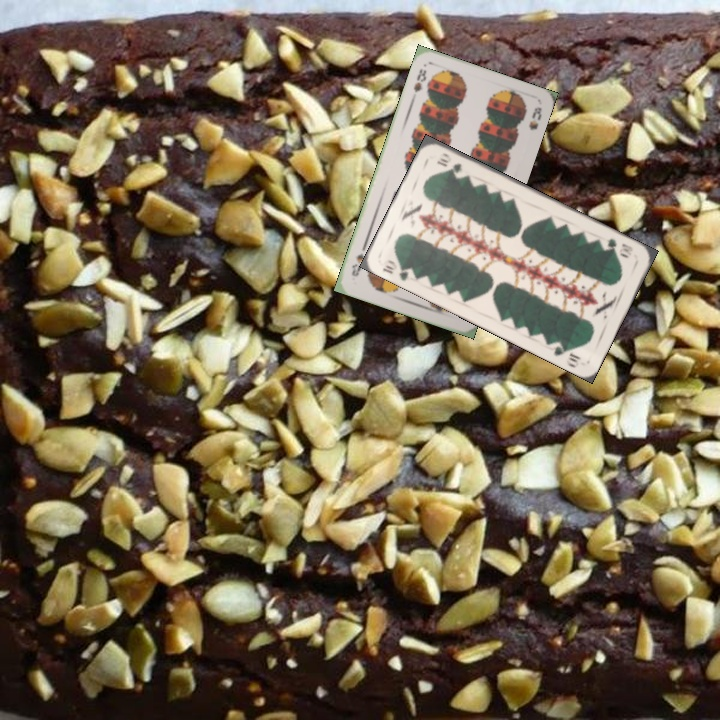G10: (378, 256, 417, 283), (602, 234, 636, 261)
S8: (409, 65, 429, 95)
